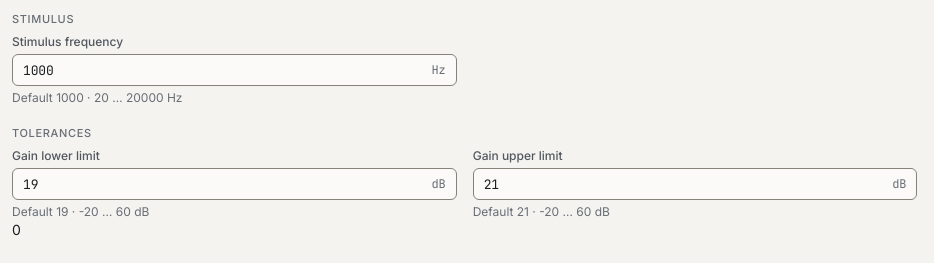
Test: ParameterForm › warns when the lower limit is above the upper limit but does not mark it invalid
Step 1. Clear the field labelled "Gain lower limit" → (222, 184), box [13, 169, 432, 199]
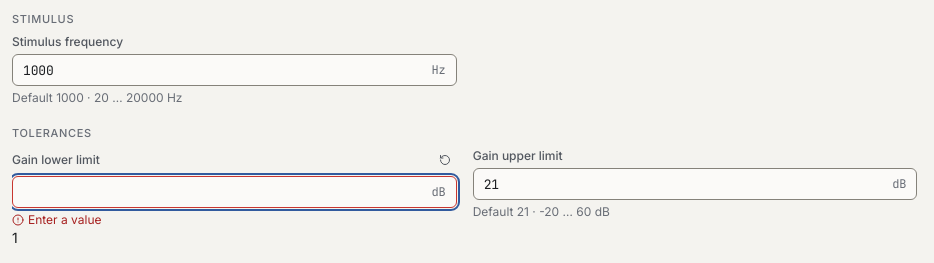
Step 2. Type "30" into the field labelled "Gain lower limit" → (222, 192), box [13, 177, 432, 207]
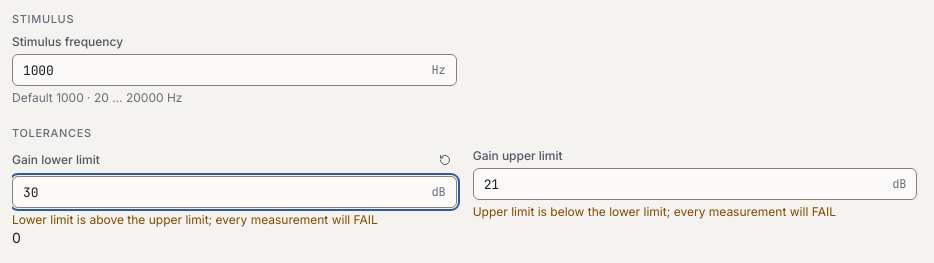
Check: the text "Lower limit is above the upper limit" is shown, box [12, 212, 378, 227]
Check: the text with test id "invalid" reads "0", box [12, 229, 21, 246]
